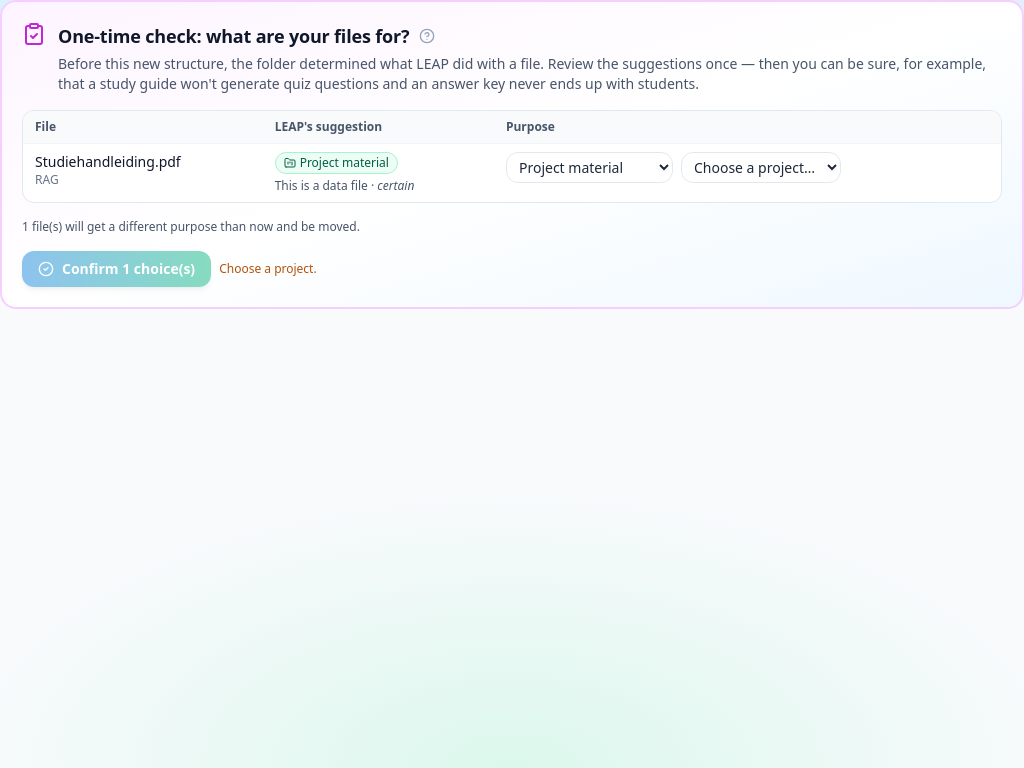
Scenario: PurposeReview — eenmalige controle › laat niet bevestigen zolang bij Projectmateriaal geen project is gekozen
The image size is (1024, 768).
Expected: the button with test id "button-review-confirm" is disabled, [22,251,211,287]
Step 1. Select "P" in the dropdown with test id "select-review-d1-project" → (761, 168), box [681,152,841,183]
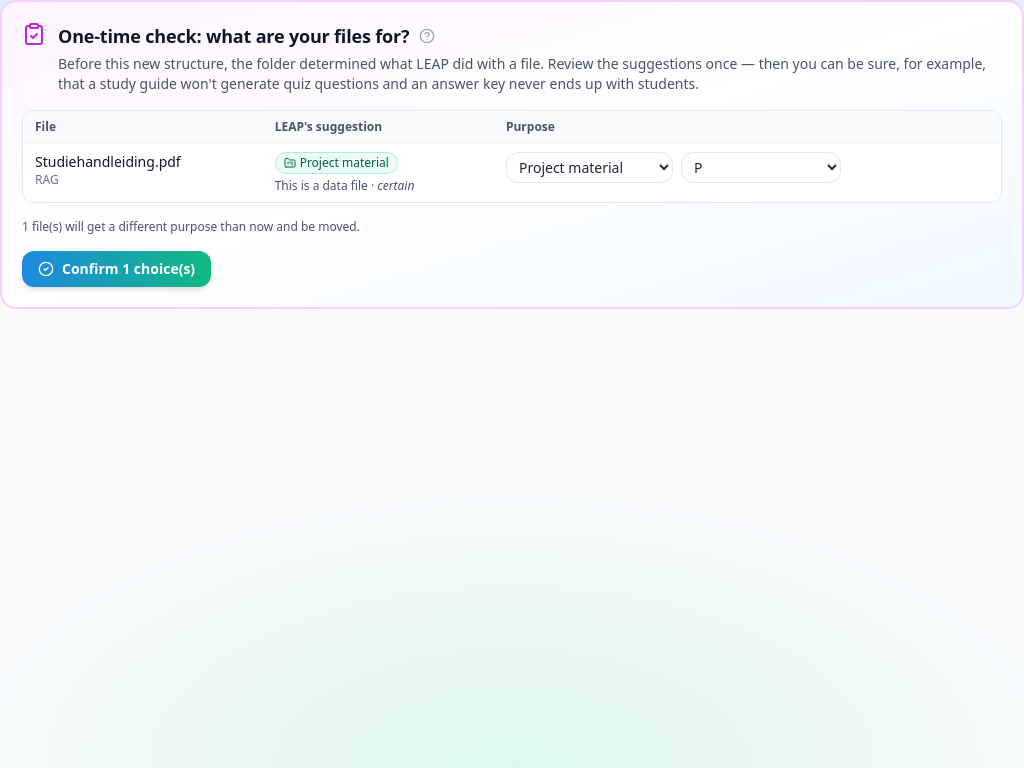
Result: the button with test id "button-review-confirm" is enabled at [22,251,211,287]
